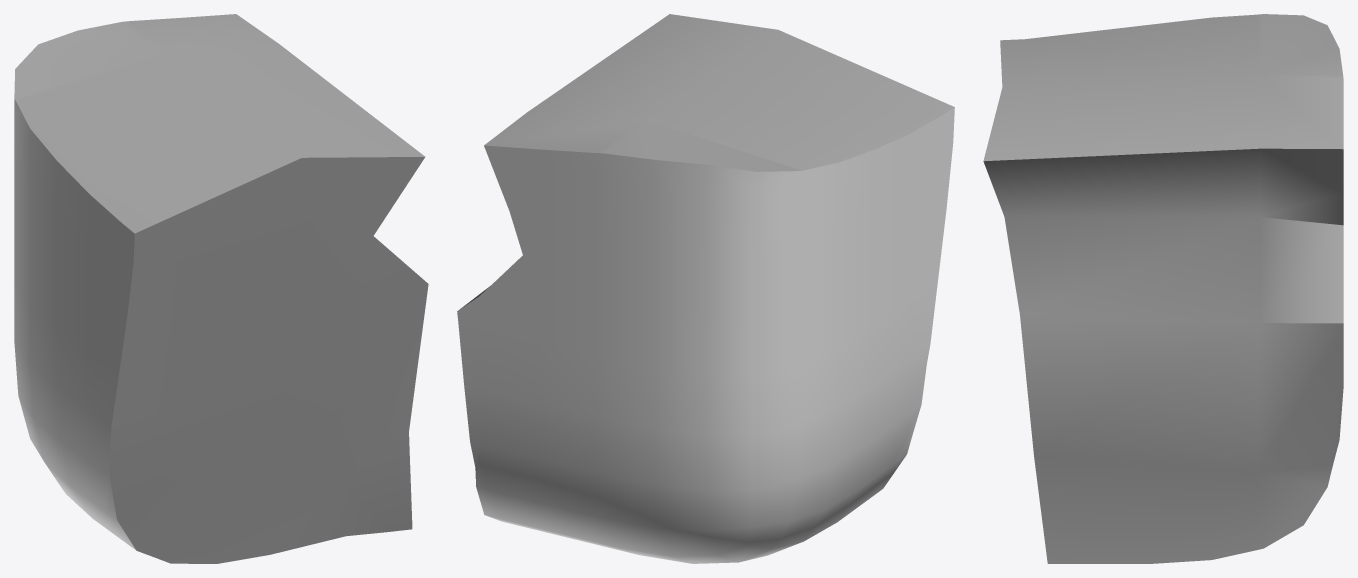
The model's file is Happy_Box13.fbx.
3 views of the same model, side by side, from view 1: azimuth 30°, elevation 25°; view 2: azimuth 150°, elevation 25°; view 3: azimuth 270°, elevation 25° (orthographic). The views are drawn at different scales.
Parts seen in each view (by area): view 1: Happy_Box13; view 2: Happy_Box13; view 3: Happy_Box13.
Part boxes in pixels (box(x1,y1,x2,y2)): Happy_Box13: box(14, 14, 428, 563); Happy_Box13: box(457, 14, 954, 563); Happy_Box13: box(983, 14, 1343, 563).
Bounding box in the file's own units: 22.78 × 31.29 × 23.87.
Materials: 2 (1 with a texture image).
